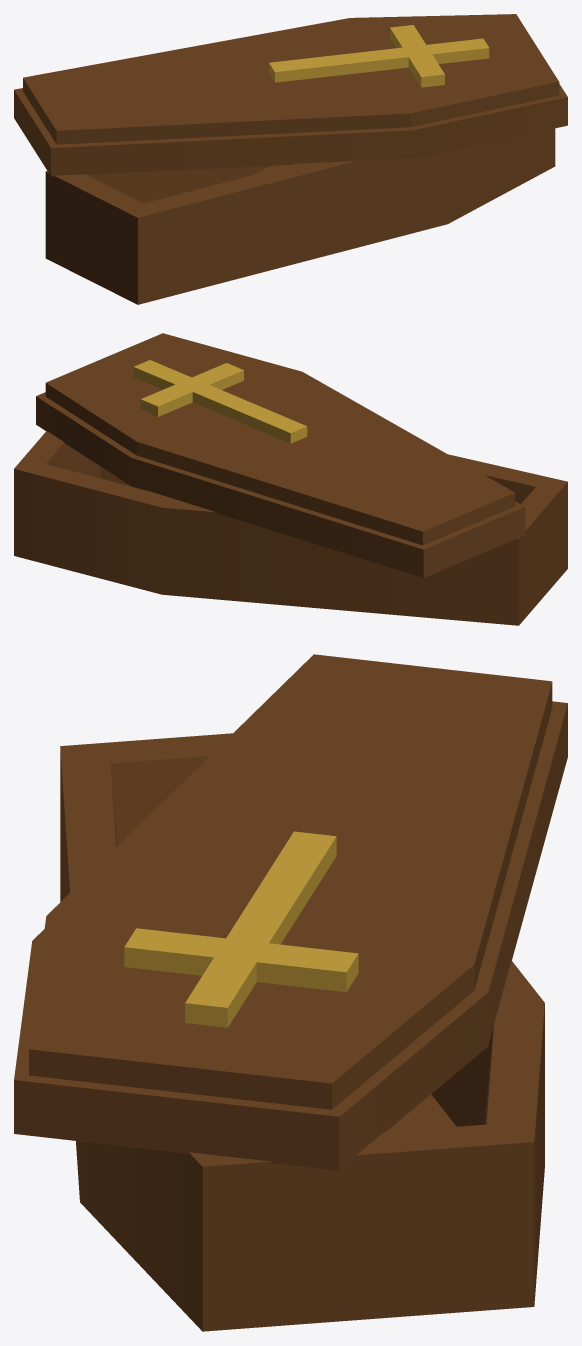
3 renders of one model, top to bottom at view 1: azimuth 30°, elevation 25°; view 2: azimuth 150°, elevation 25°; view 3: azimuth 270°, elevation 25°, orthographic. The views are drawn at different scales.
Parts seen in each view (by area): view 1: Box013; view 2: Box013; view 3: Box013.
Boxes of the visible parts, x1,y1,x2,y2 form: Box013: [14, 14, 567, 304]; Box013: [14, 333, 567, 625]; Box013: [14, 654, 567, 1331].
Bounding box in the file's own units: 1.21 × 0.3356 × 0.6398.
